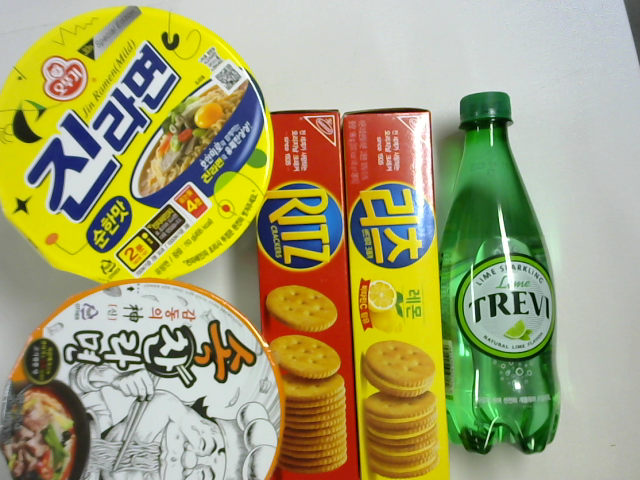Hejangchan: (1, 274, 309, 477)
Jinlamyeon_Mild_Taste_Large_Cup: (1, 6, 274, 293)
Ritz_Cracker: (239, 108, 362, 480)
Ritz_Remon_96g: (337, 105, 471, 480)
Treviraim_500ml: (419, 88, 575, 455)
